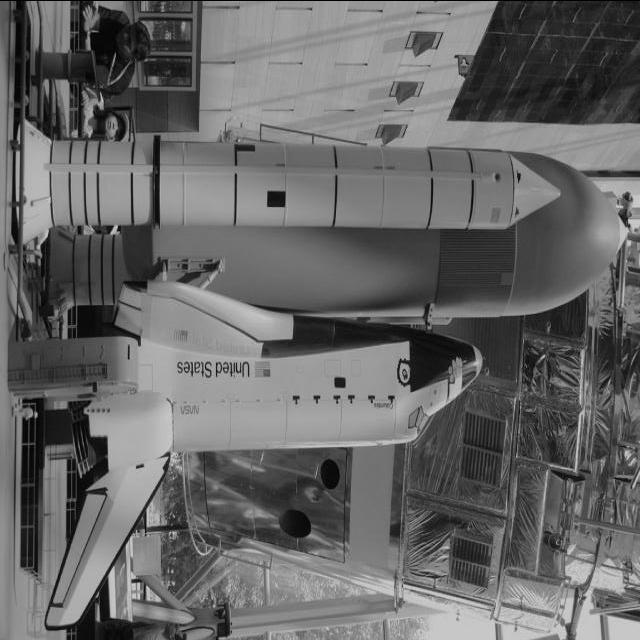missile: (23, 134, 574, 243)
